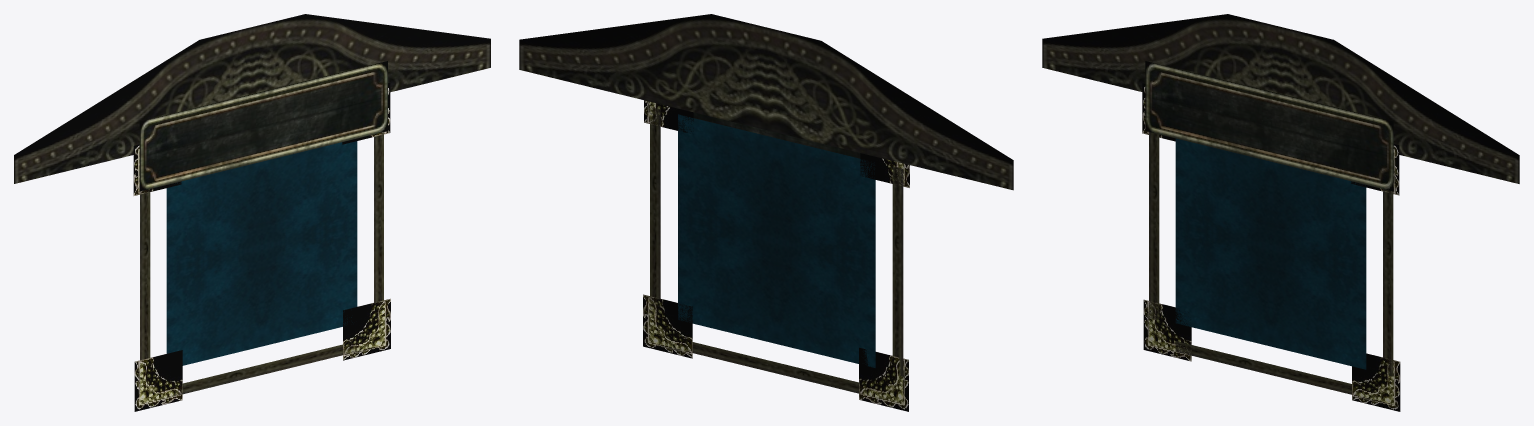
The model's file is pir_m_gui_frm_main_blue.fbx.
3 renders of one model, left to right at view 1: azimuth 30°, elevation 25°; view 2: azimuth 150°, elevation 25°; view 3: azimuth 330°, elevation 25°, orthographic. The views are drawn at different scales.
Parts seen in each view (by area): view 1: MiddleMesh, headBoardMesh, nameTagMesh, BottomLeftMesh, bottomRightMesh, bottomMesh, LeftMesh, RightMesh, TopLeftMesh; view 2: MiddleMesh, headBoardMesh, bottomRightMesh, BottomLeftMesh, LeftMesh, RightMesh, bottomMesh, TopLeftMesh, nameTagMesh, TopRightMesh; view 3: MiddleMesh, headBoardMesh, nameTagMesh, BottomLeftMesh, bottomRightMesh, LeftMesh, bottomMesh, RightMesh, TopRightMesh.
Boxes of the visible parts, x1,y1,x2,y2 form: MiddleMesh: (166, 141, 357, 365); headBoardMesh: (14, 14, 490, 183); nameTagMesh: (139, 61, 387, 191); BottomLeftMesh: (134, 350, 182, 411); bottomRightMesh: (343, 298, 390, 360); bottomMesh: (167, 342, 357, 397); LeftMesh: (140, 190, 150, 360); RightMesh: (374, 132, 383, 317); TopLeftMesh: (133, 144, 181, 195); MiddleMesh: (678, 114, 875, 367); headBoardMesh: (519, 14, 1013, 190); bottomRightMesh: (643, 294, 692, 358); BottomLeftMesh: (859, 347, 908, 411); LeftMesh: (892, 166, 903, 376); RightMesh: (650, 107, 660, 315); bottomMesh: (692, 342, 858, 393); TopLeftMesh: (860, 153, 909, 187); nameTagMesh: (693, 112, 860, 158); TopRightMesh: (644, 100, 693, 133); MiddleMesh: (1175, 138, 1366, 369); headBoardMesh: (1042, 14, 1519, 183); nameTagMesh: (1145, 61, 1393, 191); BottomLeftMesh: (1143, 299, 1191, 361); bottomRightMesh: (1352, 353, 1400, 411); LeftMesh: (1149, 132, 1159, 320); bottomMesh: (1175, 341, 1351, 394); RightMesh: (1383, 189, 1393, 376); TopRightMesh: (1351, 144, 1399, 195).
Size of the model in its own units: 250 by 174 by 10.36.
Materials: 4 (4 with a texture image).
